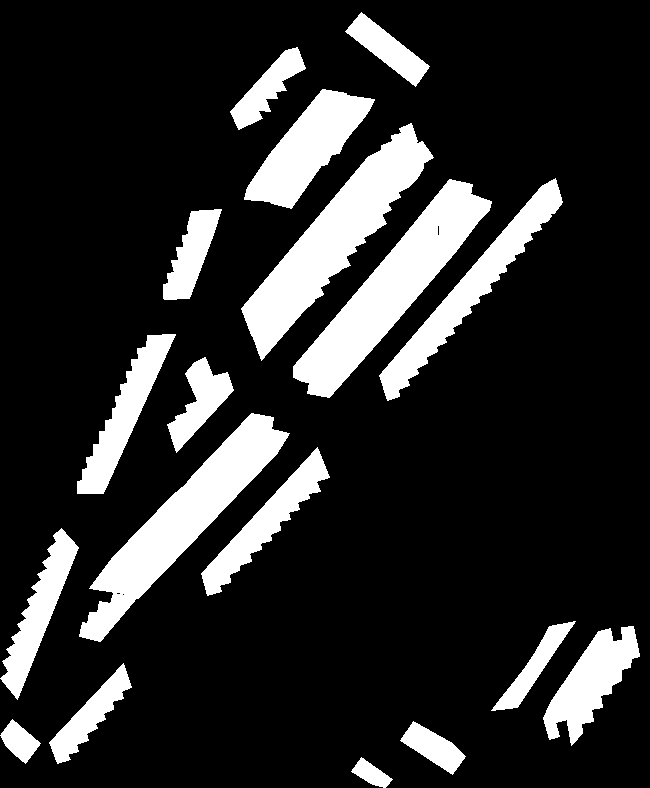parkingspot: (379, 178, 562, 400), (252, 141, 433, 360), (307, 193, 491, 397), (241, 123, 417, 335), (293, 179, 472, 383), (89, 413, 273, 592), (115, 427, 289, 598), (201, 447, 329, 595), (77, 334, 175, 493), (0, 528, 78, 699), (267, 95, 374, 208), (244, 89, 346, 201), (565, 626, 639, 745), (49, 663, 131, 763), (543, 628, 615, 739), (491, 621, 575, 710), (345, 12, 429, 86), (230, 47, 305, 129), (167, 372, 233, 452), (163, 209, 221, 299), (400, 721, 465, 774), (79, 593, 137, 641), (0, 719, 40, 763), (351, 757, 392, 787), (185, 357, 215, 396)
